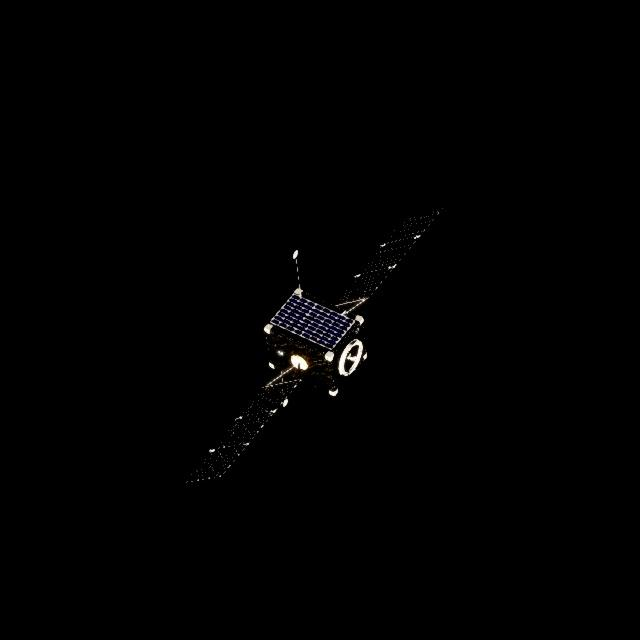medium_debris: (189, 210, 439, 475)
